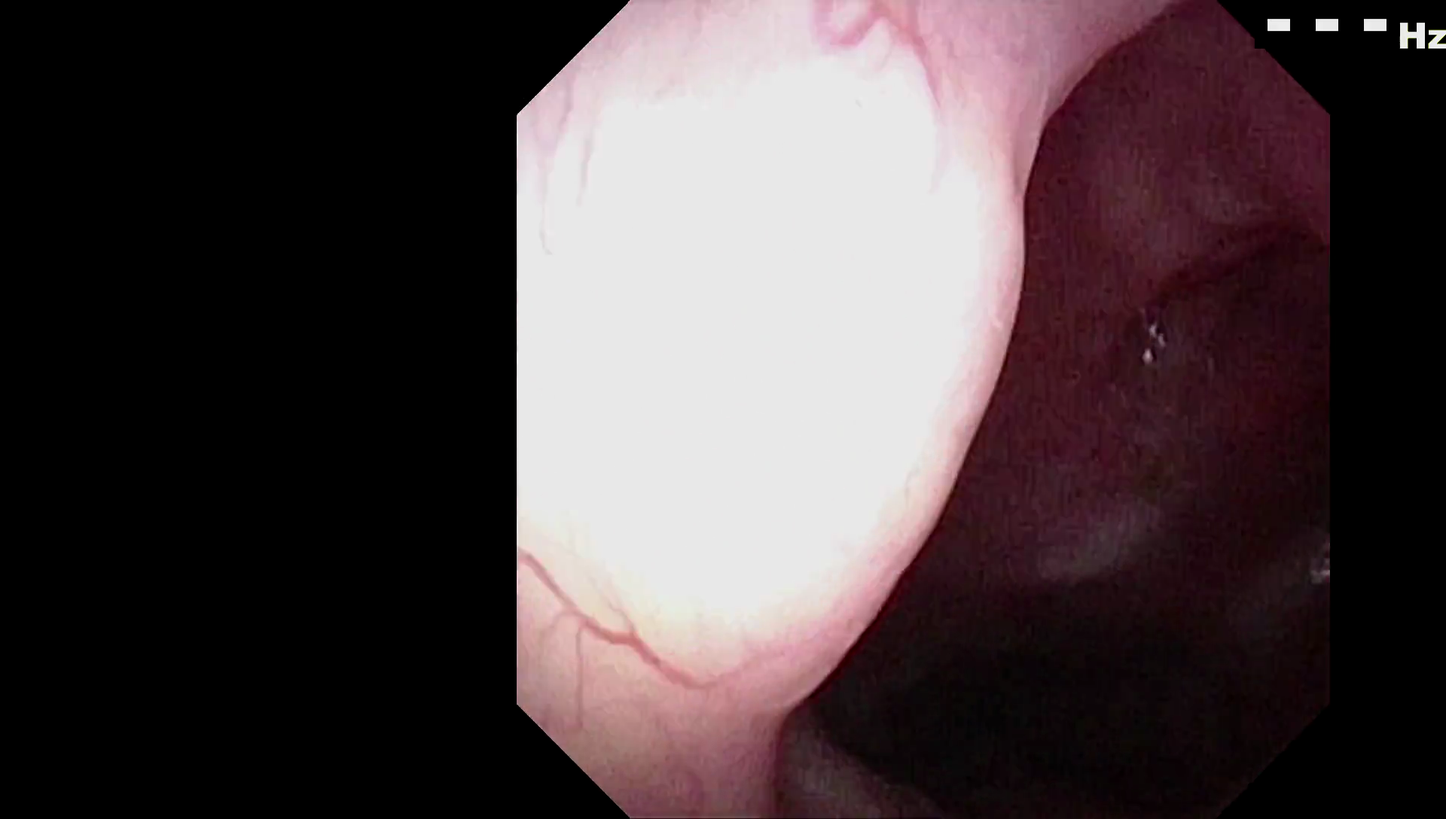close_wall: (776, 565, 1251, 805)
next: (544, 108, 1043, 708)
